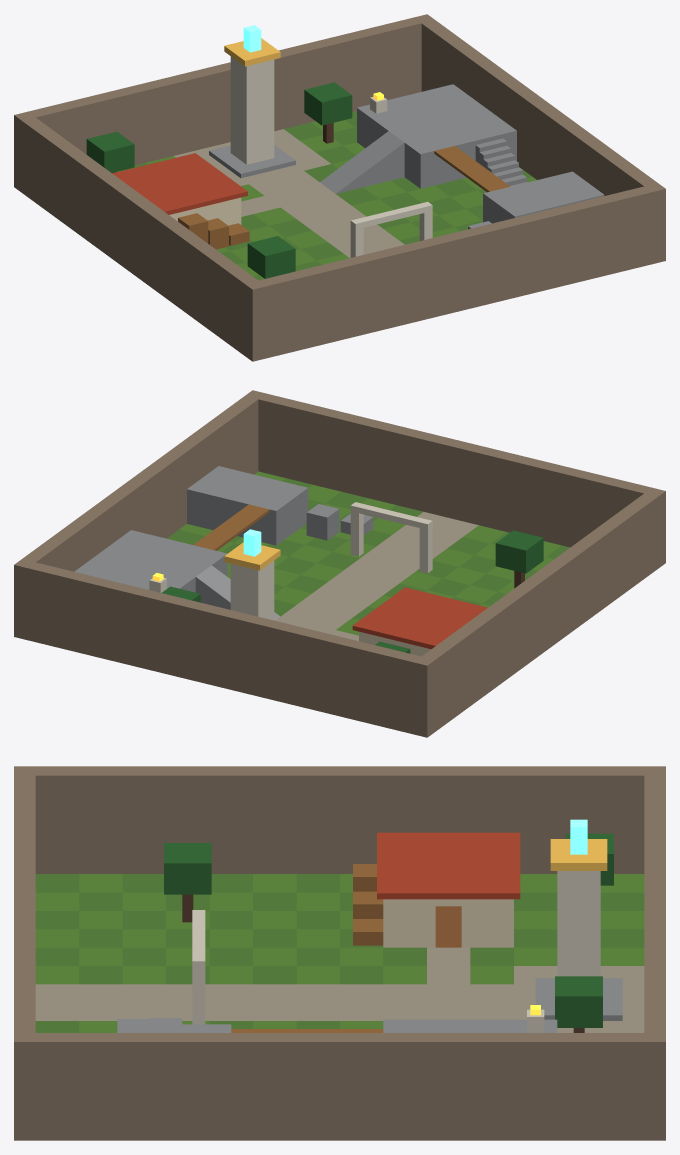
File: level.glb
The picture shows the model from 3 angles, top to bottom: view 1: azimuth 30°, elevation 25°; view 2: azimuth 150°, elevation 25°; view 3: azimuth 270°, elevation 25°; orthographic projection. The views are drawn at different scales.
Parts seen in each view (by area): view 1: Cliff South, Cliff North, Cliff West, Cliff East, Terrace, Floor Paving, Floor Meadow, Floor Grass, House Roof, Tower, Lookout, Ramp (+10 smaller); view 2: Cliff North, Cliff South, Cliff West, Cliff East, Floor Grass, Floor Paving, Floor Meadow, Lookout, Terrace, House Roof, Tower, Tree 1 Leaves (+8 smaller); view 3: Cliff East, Cliff West, Floor Grass, Floor Meadow, Floor Paving, House Roof, Cliff North, Cliff South, Tower, Tree 1 Leaves, Tree 3 Leaves, Terrace (+14 smaller).
Boxes of the visible parts, x1,y1,x2,y2 form: Cliff South: [244, 183, 665, 361]; Cliff North: [14, 14, 434, 192]; Cliff West: [22, 117, 257, 355]; Cliff East: [421, 20, 657, 195]; Terrace: [357, 84, 516, 188]; Floor Paving: [174, 129, 404, 257]; Floor Meadow: [121, 111, 532, 280]; Floor Grass: [116, 120, 536, 276]; House Roof: [112, 153, 247, 214]; Tower: [230, 56, 274, 164]; Lookout: [483, 171, 604, 223]; Ramp: [320, 131, 404, 193]; Cliff North: [14, 559, 435, 737]; Cliff South: [245, 390, 665, 568]; Cliff West: [422, 493, 657, 731]; Cliff East: [22, 396, 258, 571]; Floor Grass: [179, 471, 560, 635]; Floor Paving: [275, 512, 478, 640]; Floor Meadow: [167, 478, 569, 620]; Lookout: [187, 466, 308, 545]; Terrace: [74, 530, 227, 592]; House Roof: [352, 587, 487, 649]; Tower: [230, 560, 274, 620]; Tree 1 Leaves: [495, 530, 543, 573]; Cliff East: [35, 1033, 644, 1140]; Cliff West: [35, 766, 644, 873]; Floor Grass: [35, 874, 644, 1032]; Floor Meadow: [35, 874, 644, 1032]; Floor Paving: [35, 947, 644, 1032]; House Roof: [377, 832, 520, 899]; Cliff North: [644, 766, 665, 1140]; Cliff South: [14, 766, 35, 1140]; Tower: [557, 871, 600, 976]; Tree 1 Leaves: [164, 843, 211, 894]; Tree 3 Leaves: [555, 976, 602, 1027]; Terrace: [383, 1019, 557, 1032].
Size of the model in its own units: 30 by 9.1 by 30.
